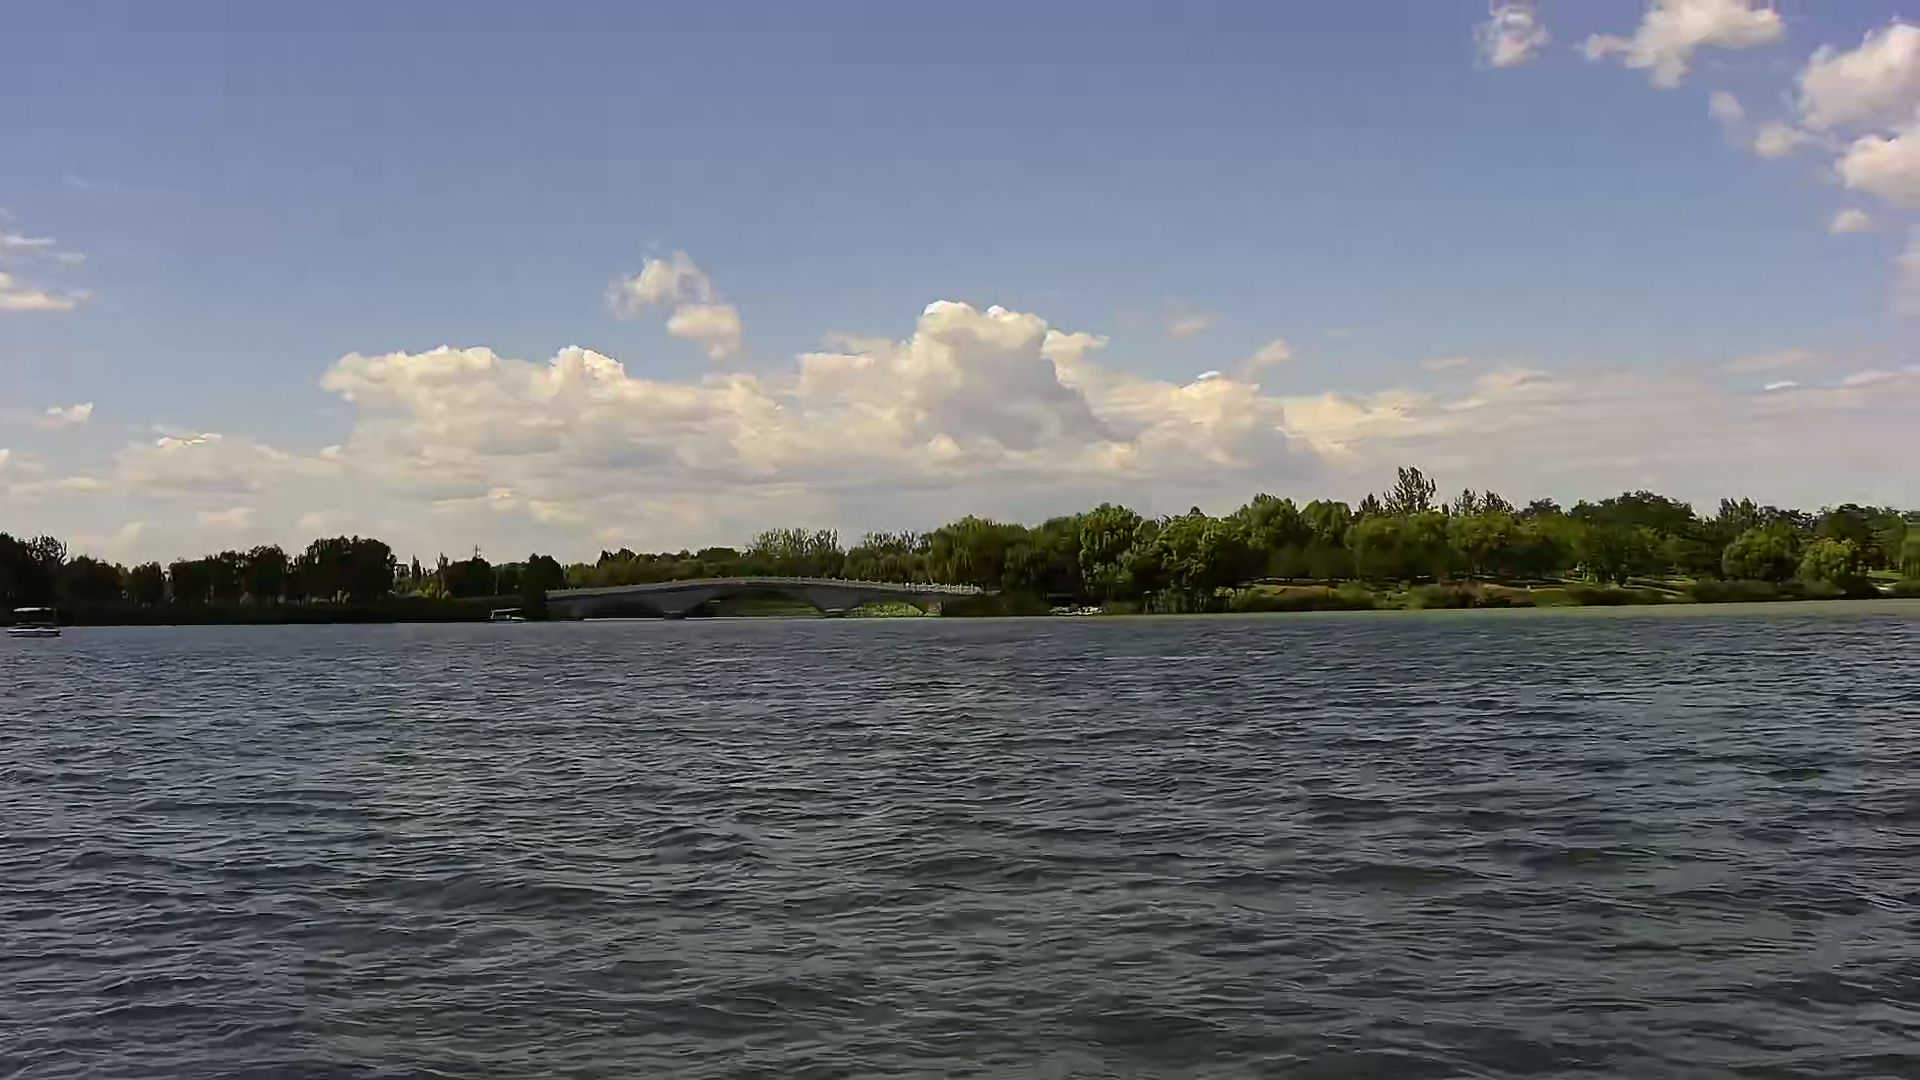boat: (5, 605, 59, 640)
bridge: (545, 568, 1001, 622)
